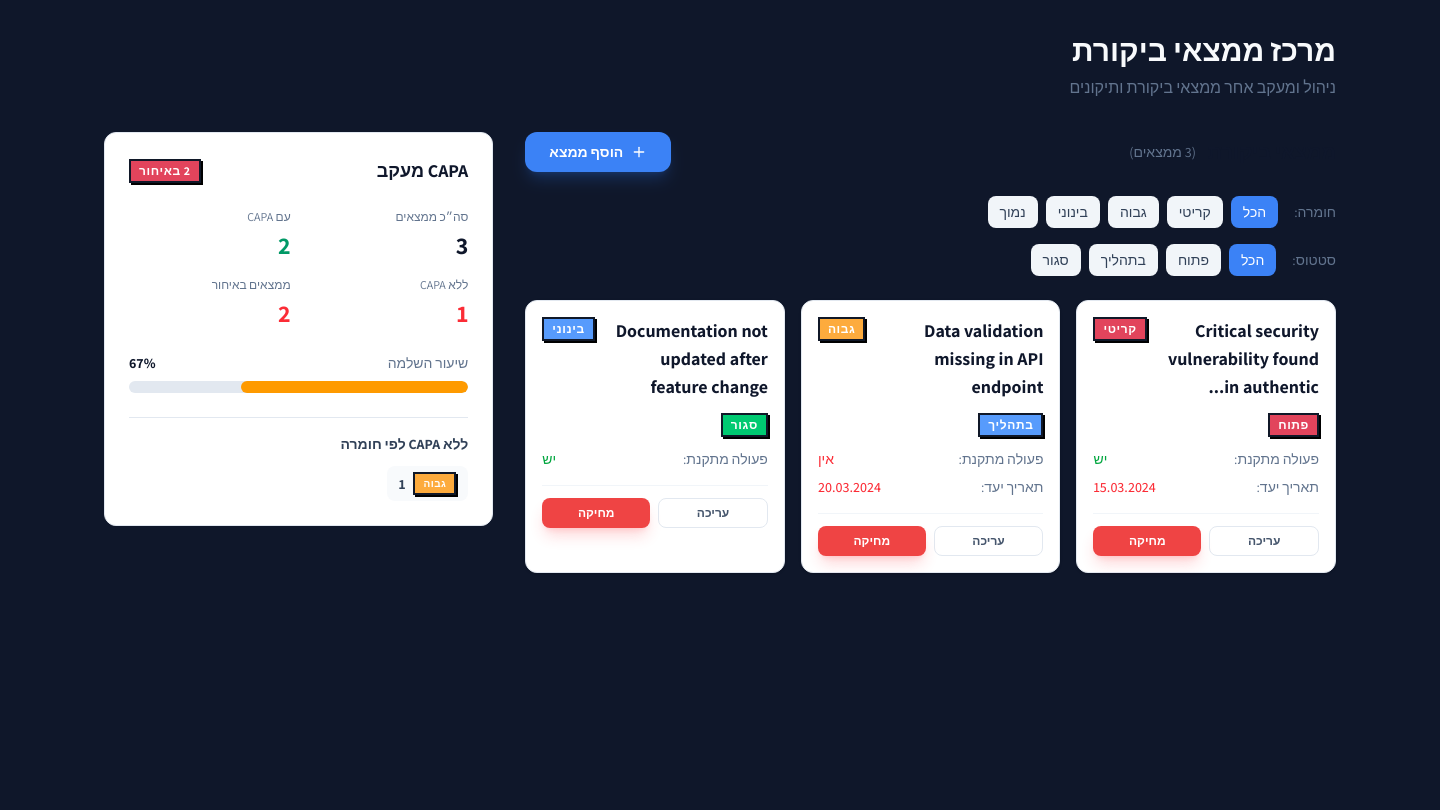
Test case: FindingsPage › add finding modal › opens add finding modal when add button clicked
Click the button "הוסף ממצא": (598, 152) [525, 132, 671, 172]
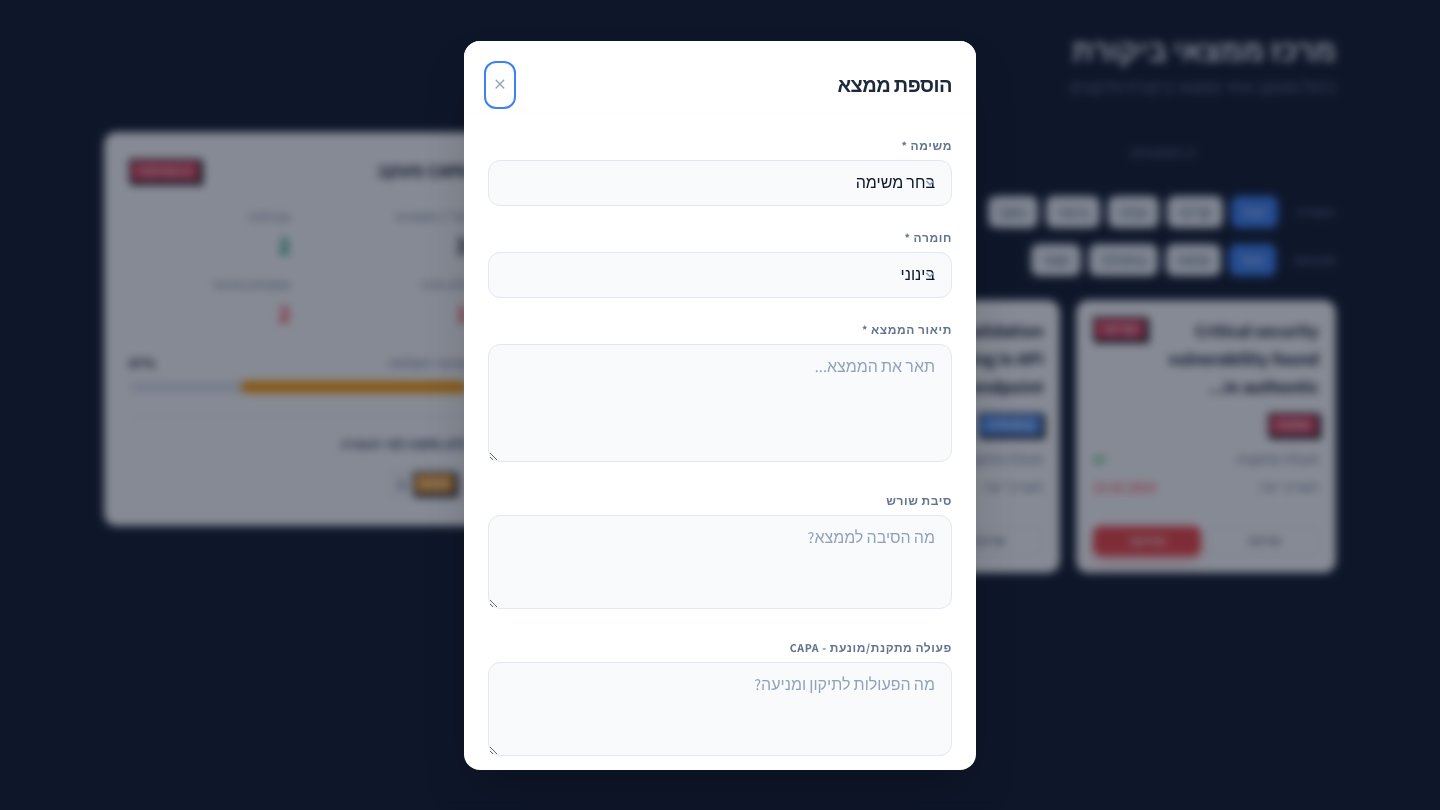
Now the element with test id "modal-overlay" is shown
